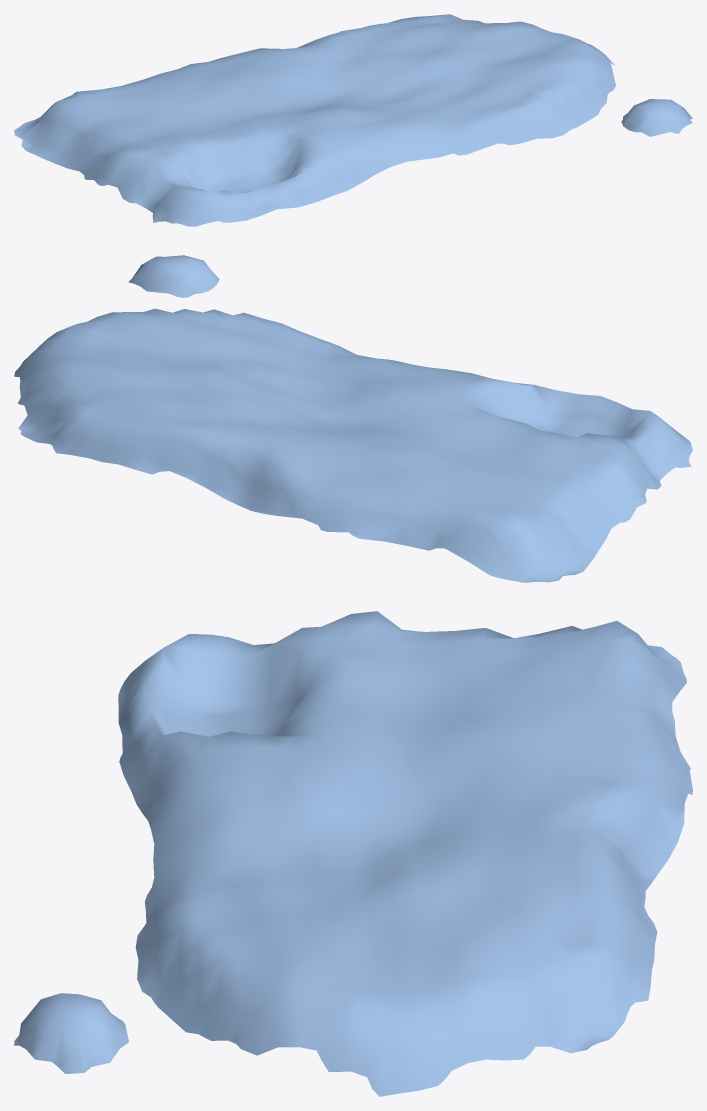
File: Mars Ground Low Poly.fbx
3 renders of one model, top to bottom at view 1: azimuth 30°, elevation 25°; view 2: azimuth 150°, elevation 25°; view 3: azimuth 270°, elevation 25°, orthographic. The views are drawn at different scales.
Parts seen in each view (by area): view 1: NavMesh; view 2: NavMesh; view 3: NavMesh.
Boxes of the visible parts, x1,y1,x2,y2 form: NavMesh: (14,14,692,226); NavMesh: (14,255,692,582); NavMesh: (14,611,692,1096).
Size of the model in its own units: 17030 by 1250 by 10700.
